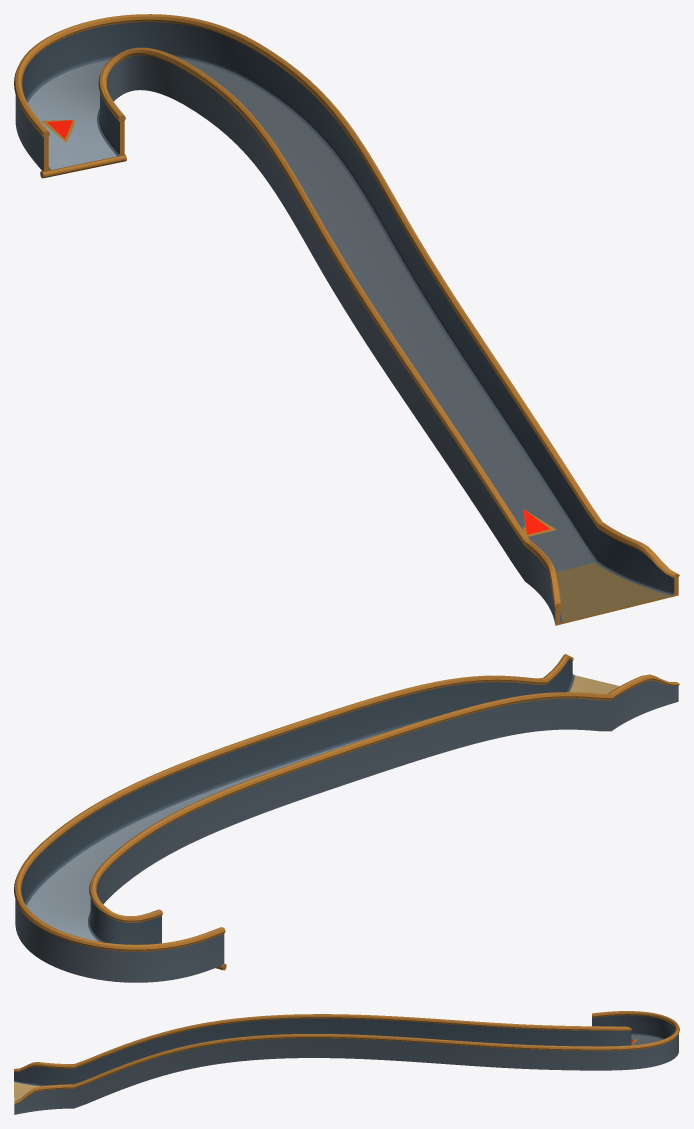
File: ramp-longR.dae
3 renders of one model, top to bottom at view 1: azimuth 30°, elevation 25°; view 2: azimuth 150°, elevation 25°; view 3: azimuth 270°, elevation 25°, orthographic. The views are drawn at different scales.
Visible parts, largest first — view 1: channel_floor, channel_liner, accent, channel_shell, channel_entry; view 2: channel_shell, channel_liner, accent, channel_floor, channel_entry; view 3: channel_shell, channel_liner, accent, channel_entry, channel_floor.
Part boxes in pixels (bbox=[...]): channel_floor: bbox=[28, 59, 594, 571]; channel_liner: bbox=[22, 22, 674, 622]; accent: bbox=[14, 14, 679, 625]; channel_shell: bbox=[15, 55, 555, 623]; channel_entry: bbox=[556, 562, 670, 622]; channel_shell: bbox=[15, 680, 678, 982]; channel_liner: bbox=[21, 660, 574, 944]; accent: bbox=[14, 654, 679, 970]; channel_floor: bbox=[26, 733, 382, 941]; channel_entry: bbox=[569, 675, 619, 693]; channel_shell: bbox=[14, 1034, 678, 1114]; channel_liner: bbox=[14, 1015, 675, 1086]; accent: bbox=[14, 1011, 679, 1104]; channel_entry: bbox=[14, 1082, 39, 1101]; channel_floor: bbox=[631, 1035, 661, 1045].
Size of the model in its own units: 0.2794 by 0.205 by 1.33.
